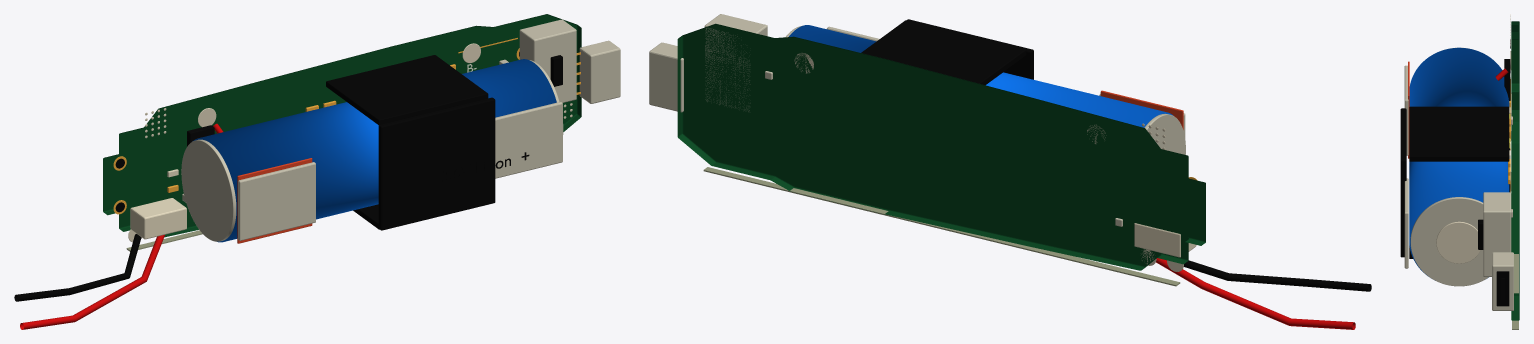
Rendered from trixig_pcb_battery_scaled.obj.
3 views of the same model, side by side, from view 1: azimuth 30°, elevation 25°; view 2: azimuth 150°, elevation 25°; view 3: azimuth 270°, elevation 25° (orthographic). The views are drawn at different scales.
Parts seen in each view (by area): view 1: PCB_95.39x26.31x1.60mm, Battery_18650_65.02x18.60mm, black_foam_retaining_tape_over_cell, black_foam_tape_right_side, left_nickel_battery_tab_top, battery_negative_cap, right_nickel_battery_tab_top, slide_switch_metal_can, USB_C_outer_shell, motor_wire_white_connector, red_motor_wire, black_motor_wire (+1 smaller); view 2: PCB_95.39x26.31x1.60mm, black_foam_tape_right_side, Battery_18650_65.02x18.60mm, PCB_laminated_edge_visible, USB_C_outer_shell, red_motor_wire, black_motor_wire, slide_switch_metal_can, motor_wire_white_connector, battery_negative_cap, black_foam_retaining_tape_over_cell, copper_isolator_left_under_tab; view 3: Battery_18650_65.02x18.60mm, black_foam_tape_right_side, battery_positive_cap, PCB_95.39x26.31x1.60mm, slide_switch_metal_can, battery_positive_button, black_foam_retaining_tape_over_cell, USB_C_outer_shell, right_nickel_battery_tab_top, USB_C_black_receptacle_opening, left_nickel_battery_tab_top, PCB_laminated_edge_visible (+3 smaller).
Part boxes in pixels (x1,y1,x2,y2): PCB_95.39x26.31x1.60mm: (103, 14, 581, 237); Battery_18650_65.02x18.60mm: (192, 59, 556, 242); black_foam_retaining_tape_over_cell: (378, 97, 495, 230); black_foam_tape_right_side: (326, 55, 488, 124); left_nickel_battery_tab_top: (238, 162, 315, 240); battery_negative_cap: (181, 139, 236, 241); right_nickel_battery_tab_top: (495, 102, 562, 178); slide_switch_metal_can: (519, 19, 576, 102); USB_C_outer_shell: (579, 40, 620, 103); motor_wire_white_connector: (130, 198, 186, 239); red_motor_wire: (20, 235, 164, 329); black_motor_wire: (14, 234, 141, 301); PCB_95.39x26.31x1.60mm: (677, 23, 1205, 270); black_foam_tape_right_side: (861, 20, 1026, 85); Battery_18650_65.02x18.60mm: (789, 25, 1173, 127); PCB_laminated_edge_visible: (703, 167, 1180, 286); USB_C_outer_shell: (649, 42, 683, 112); red_motor_wire: (1156, 258, 1355, 329); black_motor_wire: (1184, 260, 1371, 291); slide_switch_metal_can: (704, 14, 767, 111); motor_wire_white_connector: (1134, 223, 1196, 257); battery_negative_cap: (1144, 113, 1185, 154); black_foam_retaining_tape_over_cell: (907, 19, 1033, 79); copper_isolator_left_under_tab: (1100, 90, 1183, 129); Battery_18650_65.02x18.60mm: (1409, 47, 1509, 278); black_foam_tape_right_side: (1409, 106, 1509, 161); battery_positive_cap: (1410, 197, 1488, 286); PCB_95.39x26.31x1.60mm: (1511, 21, 1519, 320); slide_switch_metal_can: (1483, 192, 1511, 276); battery_positive_button: (1436, 221, 1480, 263); black_foam_retaining_tape_over_cell: (1400, 108, 1406, 257); USB_C_outer_shell: (1492, 252, 1513, 310); right_nickel_battery_tab_top: (1404, 178, 1408, 268); USB_C_black_receptacle_opening: (1496, 271, 1509, 306); left_nickel_battery_tab_top: (1404, 65, 1408, 155); PCB_laminated_edge_visible: (1512, 254, 1518, 329).
Bounding box in the file's own units: 0.1256 × 0.0333 × 0.0222.
